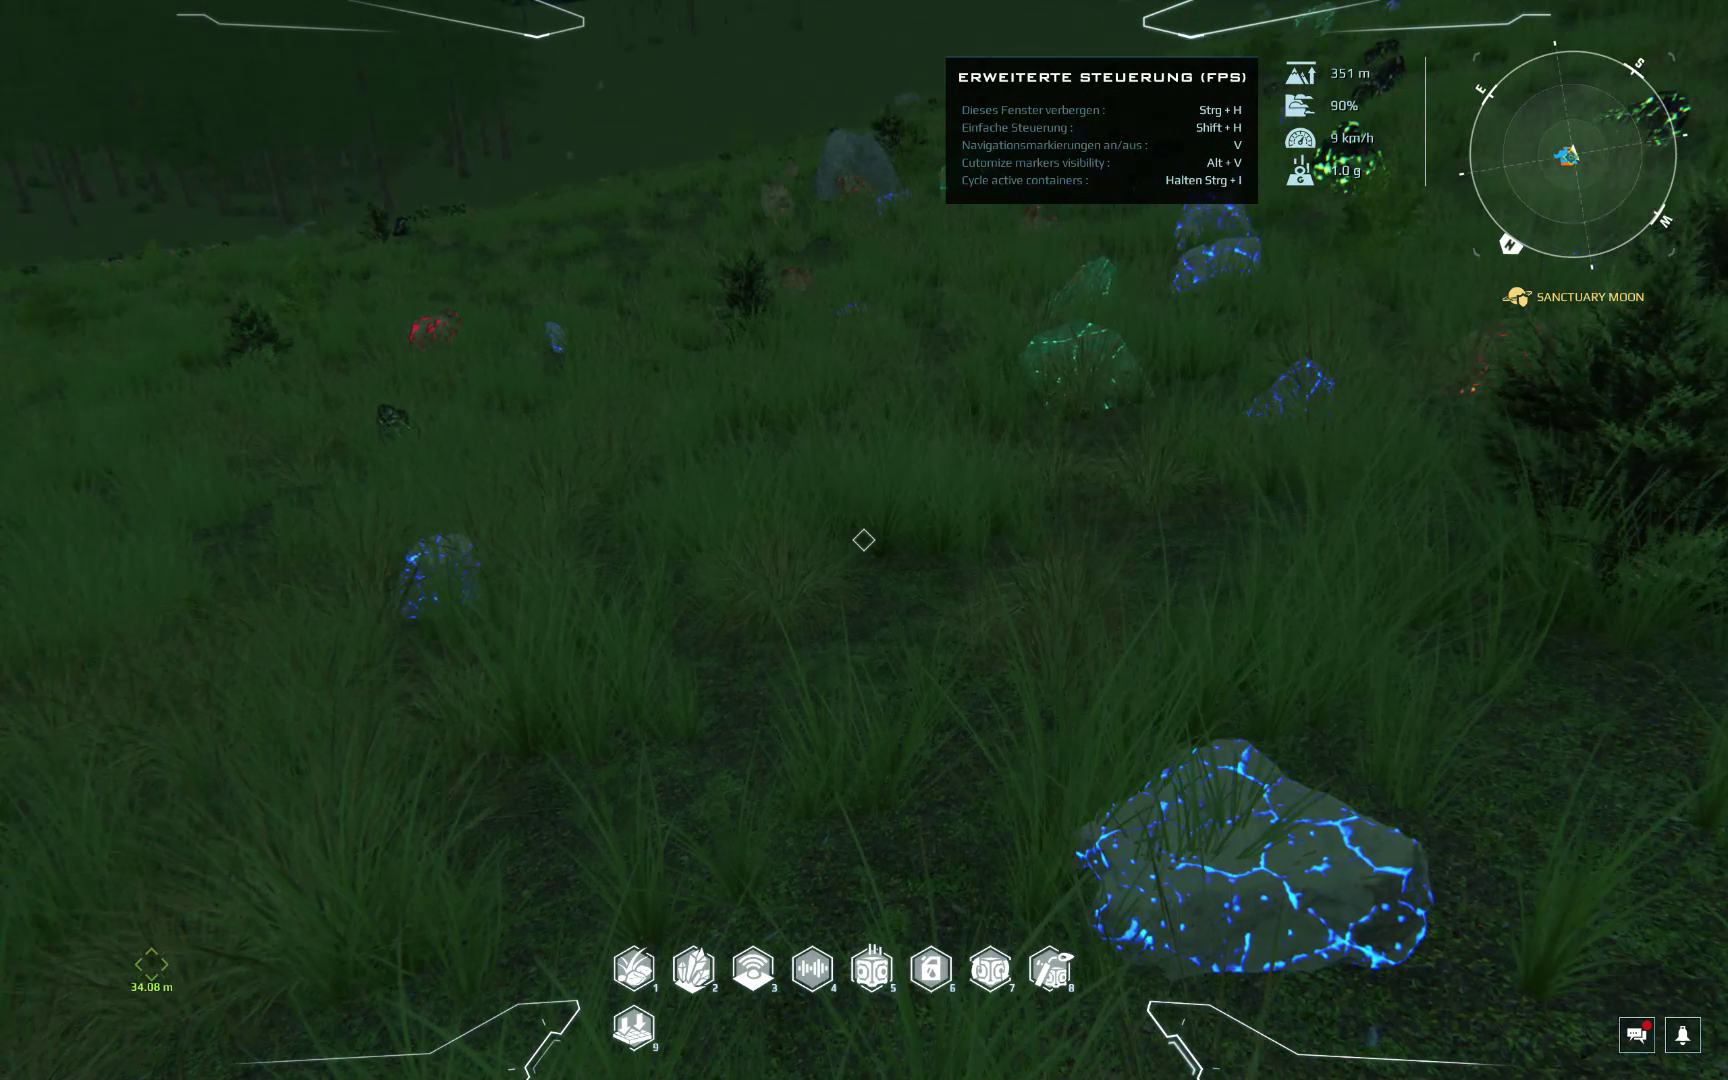Ore: (1071, 738, 1429, 979), (1016, 321, 1152, 408), (1436, 315, 1559, 403), (391, 533, 489, 618), (1166, 236, 1264, 299), (1240, 358, 1334, 421), (1041, 258, 1126, 316), (403, 309, 465, 345), (537, 319, 570, 356), (779, 263, 812, 291)
